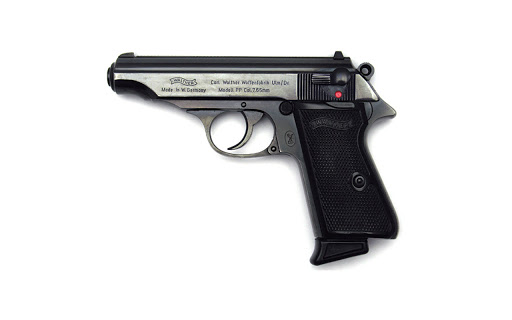gun: (97, 43, 413, 277)
